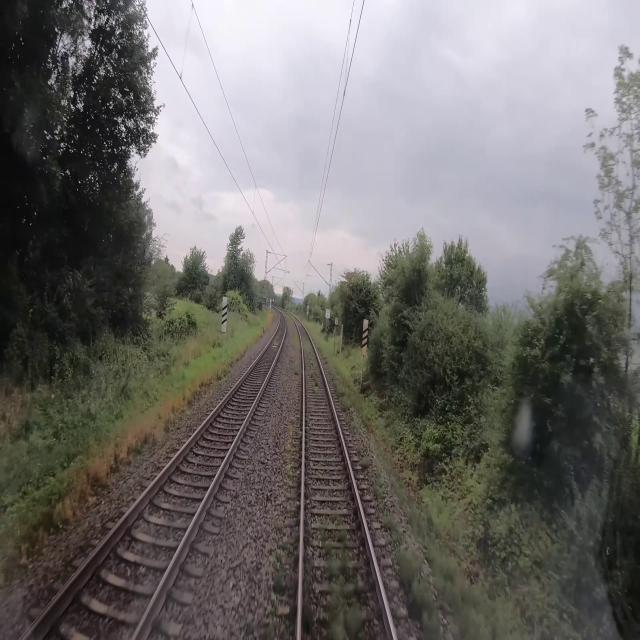Plant: (319, 511, 364, 639), (393, 544, 443, 639), (314, 337, 353, 412), (369, 471, 402, 544), (274, 571, 288, 599), (302, 607, 314, 635), (310, 370, 320, 394), (358, 457, 370, 468)
